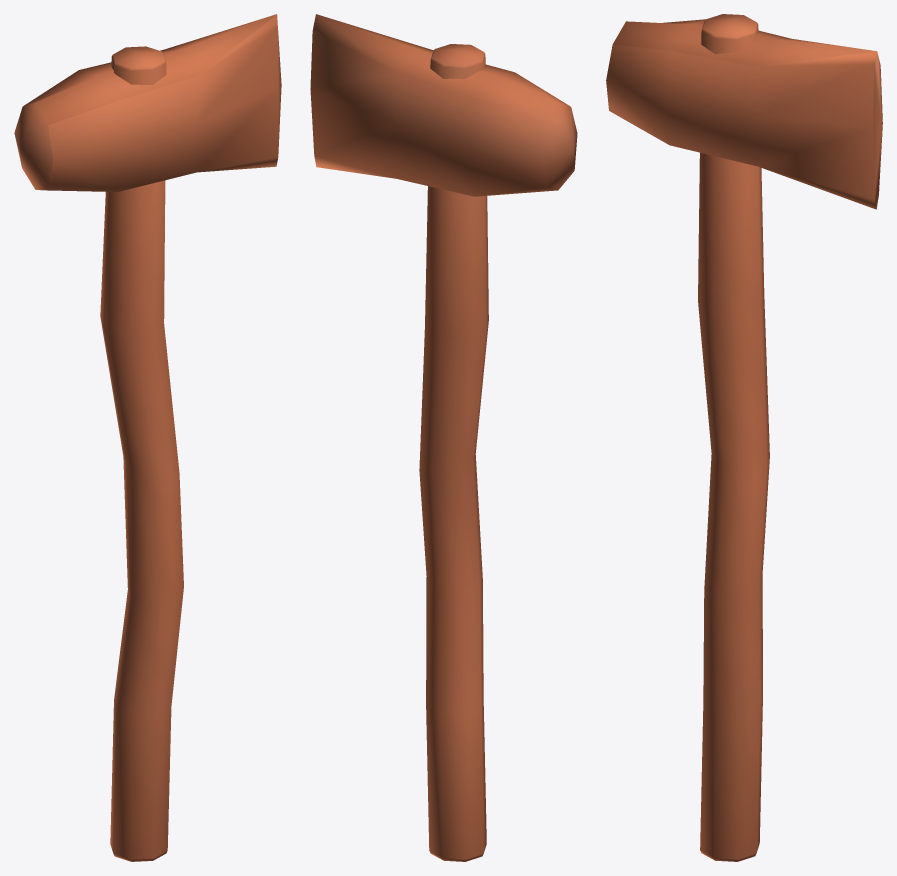
The model's file is Wooden_Axe.fbx.
The picture shows the model from 3 angles, left to right: view 1: azimuth 30°, elevation 25°; view 2: azimuth 150°, elevation 25°; view 3: azimuth 330°, elevation 25°; orthographic projection. The views are drawn at different scales.
Parts seen in each view (by area): view 1: Wooden_Axe; view 2: Wooden_Axe; view 3: Wooden_Axe.
Boxes of the visible parts, x1,y1,x2,y2 form: Wooden_Axe: (14,14,281,861); Wooden_Axe: (310,14,577,861); Wooden_Axe: (606,14,882,861).
Bounding box in the file's own units: 0.1643 × 0.4831 × 0.0506.
